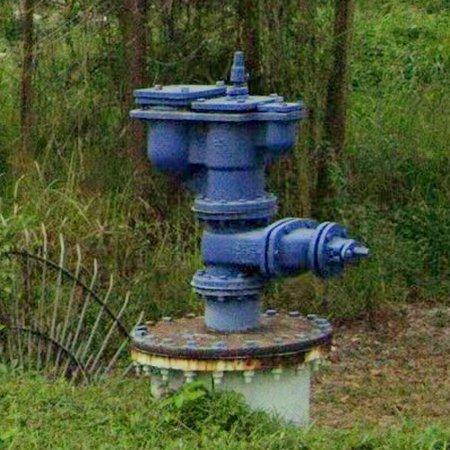a fire hydrant: (130, 51, 370, 355)
